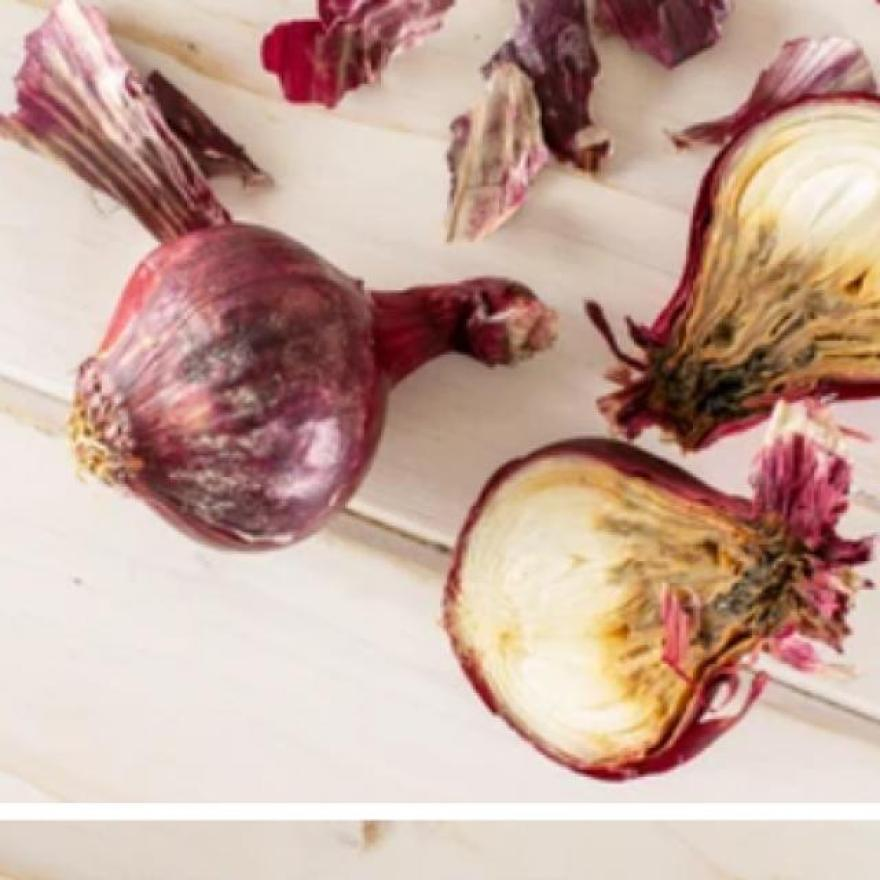Rotten: (655, 496, 835, 670), (643, 235, 799, 432), (149, 314, 287, 534)
